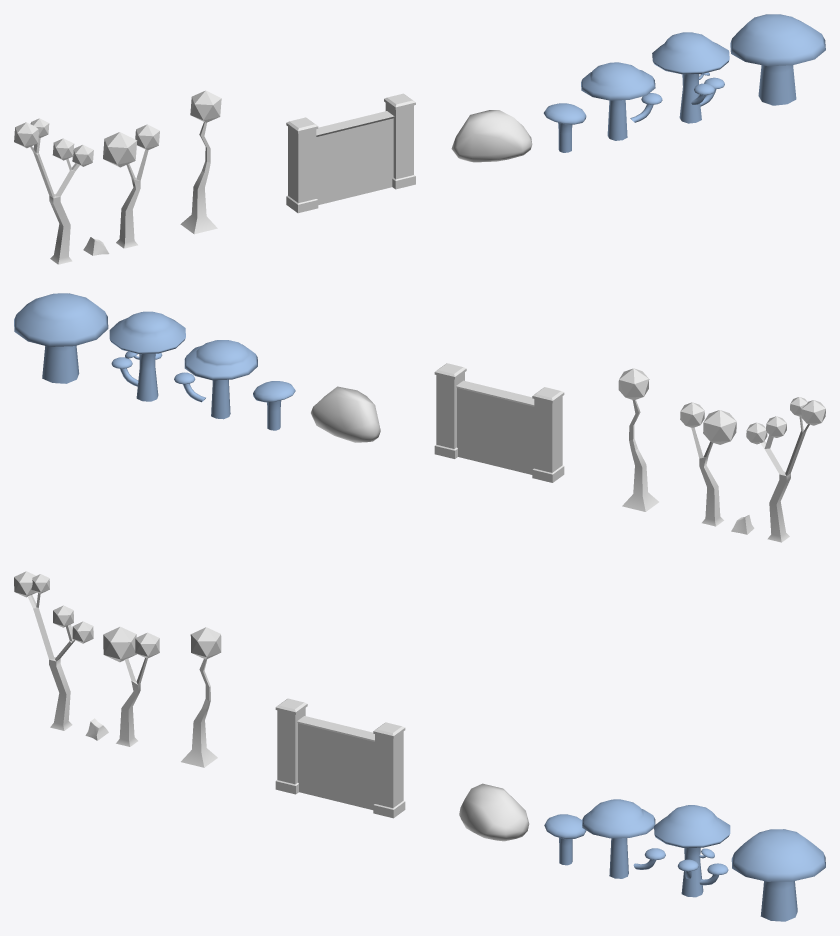
The model's file is EnviromentMesh_v1_gamejam2024.fbx.
3 renders of one model, top to bottom at view 1: azimuth 30°, elevation 25°; view 2: azimuth 150°, elevation 25°; view 3: azimuth 330°, elevation 25°, orthographic.
Parts seen in each view (by area): view 1: wall, mushroomcap9, Rockv1, pillar_v1, mushroomcap3, mushroomcap2, pillar_v2, woodv6, mushroom11, woodv1, wookv2, bush5 (+6 smaller); view 2: wall, mushroomcap9, Rockv1, pillar_v1, mushroomcap3, mushroomcap2, pillar_v2, woodv6, woodv1, mushroom11, wookv2, bush5 (+6 smaller); view 3: wall, mushroomcap9, Rockv1, pillar_v2, mushroomcap3, mushroomcap2, pillar_v1, woodv6, mushroom11, woodv1, wookv2, bush5 (+4 smaller).
Boxes of the visible parts, x1=… form: wall: x1=316, y1=111, x2=394, y2=204; mushroomcap9: x1=730, y1=14, x2=825, y2=66; Rockv1: x1=451, y1=110, x2=532, y2=162; pillar_v1: x1=286, y1=117, x2=318, y2=213; mushroomcap3: x1=652, y1=32, x2=729, y2=74; mushroomcap2: x1=581, y1=62, x2=655, y2=100; pillar_v2: x1=384, y1=93, x2=415, y2=189; woodv6: x1=30, y1=138, x2=79, y2=264; mushroom11: x1=758, y1=65, x2=796, y2=105; woodv1: x1=180, y1=122, x2=217, y2=234; wookv2: x1=116, y1=149, x2=148, y2=248; bush5: x1=103, y1=132, x2=137, y2=167; wall: x1=456, y1=380, x2=534, y2=474; mushroomcap9: x1=14, y1=293, x2=108, y2=346; Rockv1: x1=311, y1=386, x2=380, y2=442; pillar_v1: x1=532, y1=387, x2=564, y2=482; mushroomcap3: x1=109, y1=311, x2=185, y2=354; mushroomcap2: x1=184, y1=340, x2=257, y2=380; pillar_v2: x1=434, y1=363, x2=466, y2=458; woodv6: x1=760, y1=415, x2=809, y2=542; woodv1: x1=622, y1=400, x2=658, y2=511; mushroom11: x1=42, y1=345, x2=79, y2=383; wookv2: x1=691, y1=427, x2=723, y2=526; bush5: x1=703, y1=410, x2=736, y2=444; wall: x1=297, y1=716, x2=374, y2=809; mushroomcap9: x1=731, y1=829, x2=825, y2=881; Rockv1: x1=459, y1=783, x2=529, y2=841; pillar_v2: x1=373, y1=722, x2=405, y2=818; mushroomcap3: x1=654, y1=805, x2=730, y2=847; mushroomcap2: x1=582, y1=799, x2=655, y2=838; pillar_v1: x1=275, y1=698, x2=307, y2=794; woodv6: x1=27, y1=593, x2=75, y2=730; mushroom11: x1=760, y1=881, x2=797, y2=921; woodv1: x1=181, y1=659, x2=217, y2=767; wookv2: x1=116, y1=658, x2=147, y2=746; bush5: x1=103, y1=626, x2=136, y2=662.
Size of the model in its own units: 84.85 by 16.11 by 8.81.
